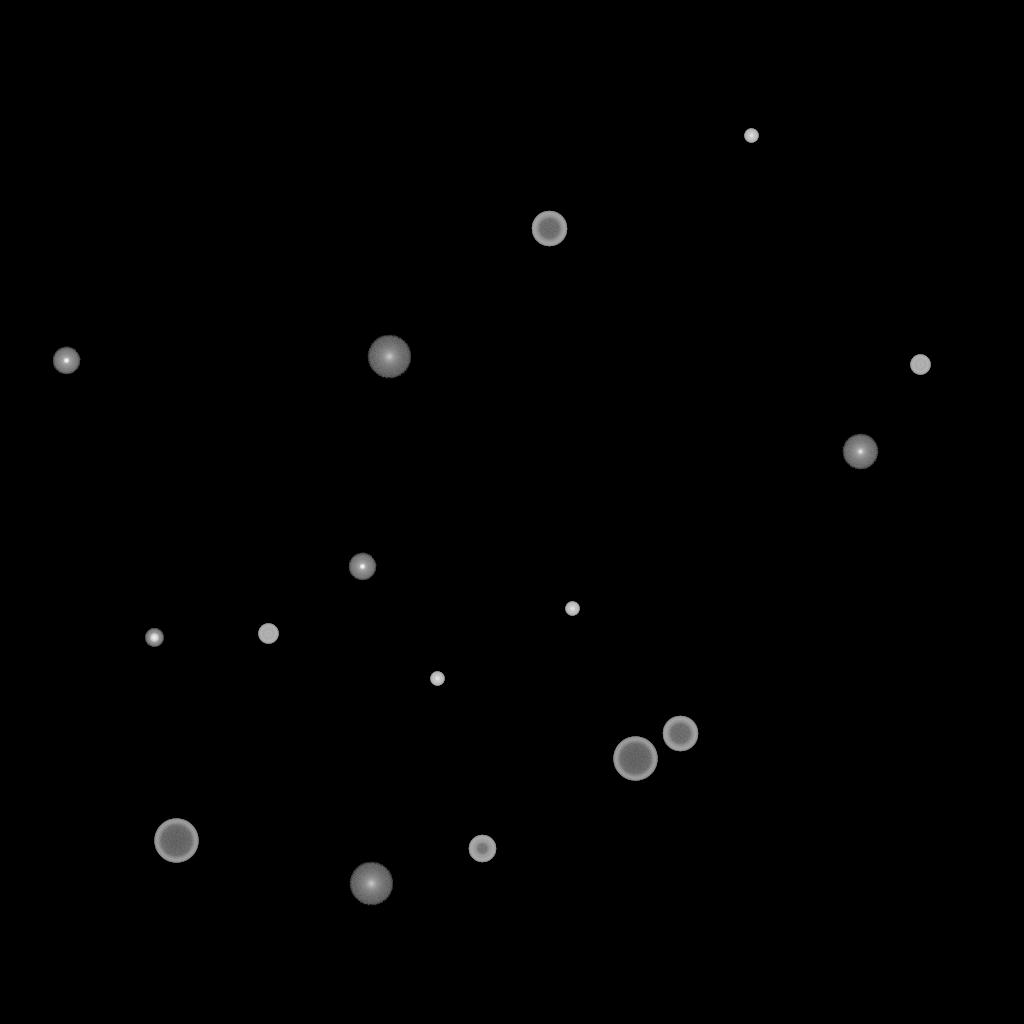depth:-10: (348, 553, 376, 581), (52, 347, 80, 375)
depth:-20: (145, 629, 163, 647)
depth:-30: (744, 129, 758, 143), (430, 672, 444, 686), (565, 602, 579, 616)
depth:-40: (258, 624, 278, 644), (910, 355, 930, 375)
depth:-50: (468, 835, 496, 863)
depth:-60: (531, 211, 567, 247), (662, 716, 698, 752)
depth:-70: (613, 737, 657, 781), (154, 819, 198, 863)
depth:0: (842, 434, 878, 470)
depth:10: (367, 335, 411, 379), (349, 862, 393, 906)
